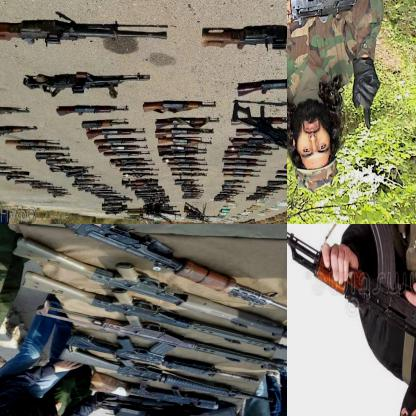rifle: (11, 234, 286, 349), (0, 224, 286, 329), (19, 272, 286, 361), (287, 224, 415, 366), (43, 307, 286, 372), (59, 348, 279, 404), (65, 335, 261, 384), (0, 6, 173, 55), (23, 60, 153, 97), (228, 99, 286, 175), (196, 12, 286, 59), (117, 385, 218, 410), (138, 93, 219, 116), (53, 98, 132, 119), (228, 75, 286, 100), (153, 113, 218, 131), (75, 115, 131, 131), (0, 115, 38, 138), (83, 127, 140, 140), (0, 100, 29, 125)
